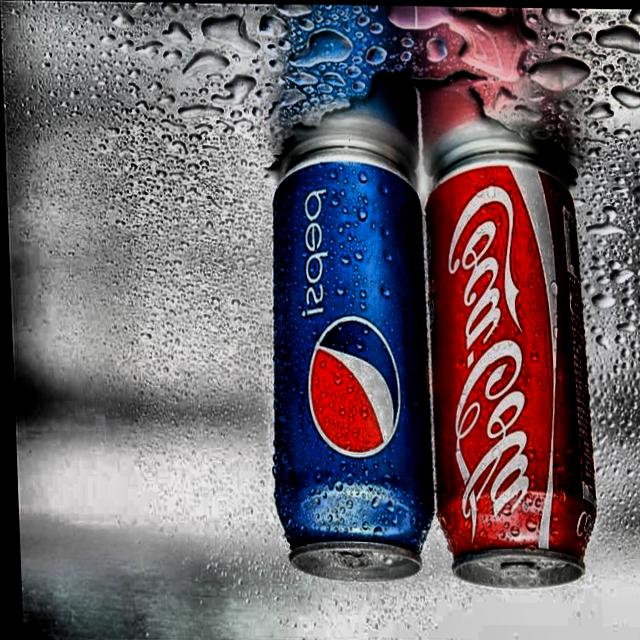can: (257, 135, 437, 592), (419, 146, 600, 596)
